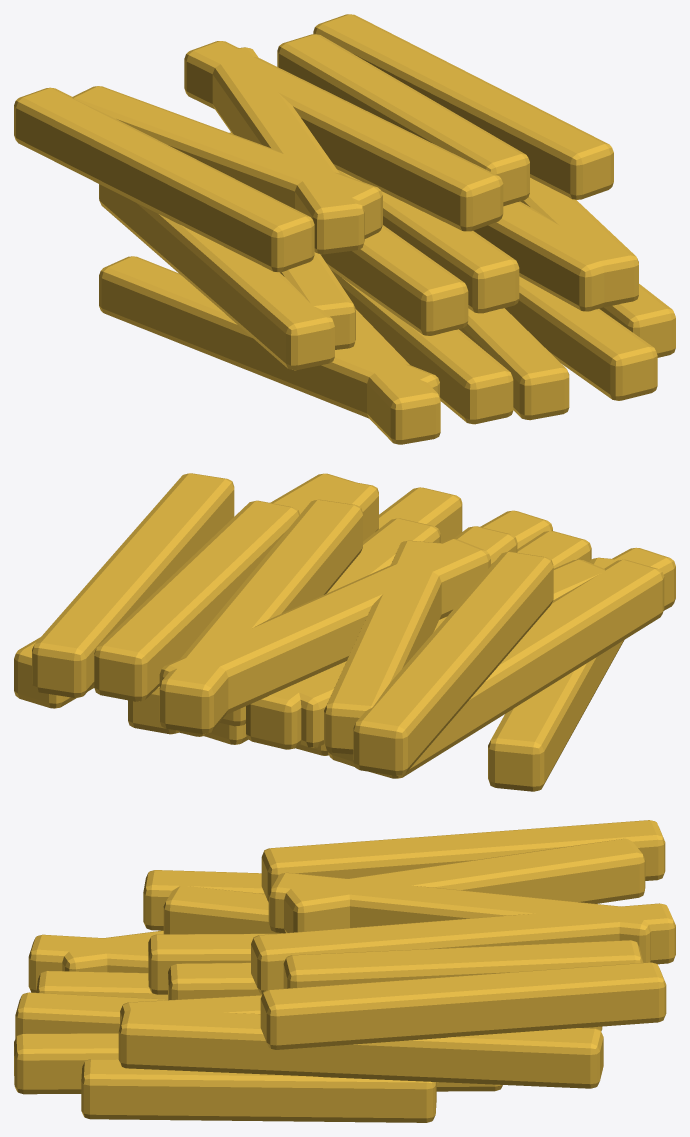
The model's file is hay-fries.glb.
The picture shows the model from 3 angles, top to bottom: view 1: azimuth 30°, elevation 25°; view 2: azimuth 150°, elevation 25°; view 3: azimuth 270°, elevation 25°; orthographic projection. The views are drawn at different scales.
Visible parts, largest first — view 1: edible_hay_fry.012, edible_hay_fry.015, edible_hay_fry.017, edible_hay_fry, edible_hay_fry.006, edible_hay_fry.016, edible_hay_fry.014, edible_hay_fry.013, edible_hay_fry.004, edible_hay_fry.008, edible_hay_fry.002, edible_hay_fry.010 (+6 smaller); view 2: edible_hay_fry.012, edible_hay_fry.017, edible_hay_fry.015, edible_hay_fry.014, edible_hay_fry.016, edible_hay_fry.006, edible_hay_fry.013, edible_hay_fry, edible_hay_fry.008, edible_hay_fry.007, edible_hay_fry.009, edible_hay_fry.010 (+5 smaller); view 3: edible_hay_fry.017, edible_hay_fry.011, edible_hay_fry.005, edible_hay_fry.013, edible_hay_fry.015, edible_hay_fry.012, edible_hay_fry.016, edible_hay_fry.014, edible_hay_fry.004, edible_hay_fry.007, edible_hay_fry.003, edible_hay_fry.008 (+6 smaller).
Part boxes in pixels (x1,y1,x2,y2): edible_hay_fry.012: (14, 87, 314, 272); edible_hay_fry.015: (184, 41, 503, 231); edible_hay_fry.017: (313, 14, 613, 199); edible_hay_fry: (99, 256, 439, 418); edible_hay_fry.006: (99, 184, 334, 370); edible_hay_fry.016: (277, 34, 529, 206); edible_hay_fry.014: (212, 47, 364, 254); edible_hay_fry.013: (72, 86, 382, 238); edible_hay_fry.004: (505, 276, 657, 400); edible_hay_fry.008: (229, 132, 468, 335); edible_hay_fry.002: (331, 270, 513, 424); edible_hay_fry.010: (473, 201, 611, 311); edible_hay_fry.012: (353, 551, 553, 775); edible_hay_fry.017: (32, 473, 234, 697); edible_hay_fry.015: (159, 499, 362, 734); edible_hay_fry.014: (159, 539, 490, 714); edible_hay_fry.016: (94, 500, 299, 701); edible_hay_fry.006: (369, 559, 664, 778); edible_hay_fry.013: (324, 540, 445, 754); edible_hay_fry: (488, 557, 634, 791); edible_hay_fry.008: (246, 526, 517, 749); edible_hay_fry.007: (289, 559, 604, 747); edible_hay_fry.009: (219, 518, 440, 726); edible_hay_fry.010: (128, 479, 378, 734); edible_hay_fry.017: (260, 962, 666, 1049); edible_hay_fry.011: (118, 1009, 603, 1088); edible_hay_fry.005: (81, 1059, 436, 1122); edible_hay_fry.013: (284, 838, 645, 932); edible_hay_fry.015: (251, 903, 675, 994); edible_hay_fry.012: (261, 820, 665, 902); edible_hay_fry.016: (283, 940, 643, 988); edible_hay_fry.014: (268, 872, 650, 962); edible_hay_fry.004: (14, 1033, 502, 1094); edible_hay_fry.007: (163, 886, 282, 934); edible_hay_fry.003: (15, 992, 167, 1038); edible_hay_fry.008: (148, 933, 276, 994).
Size of the model in its own units: 0.1634 by 0.049 by 0.2266.
